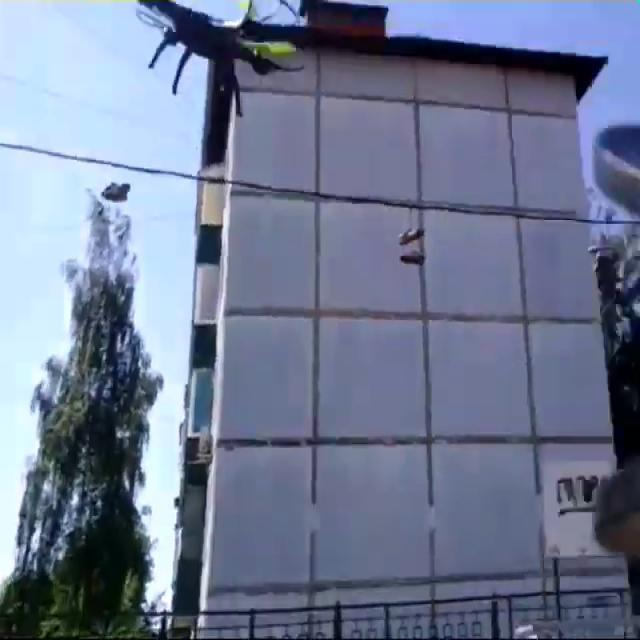Drons: (132, 0, 308, 124)
